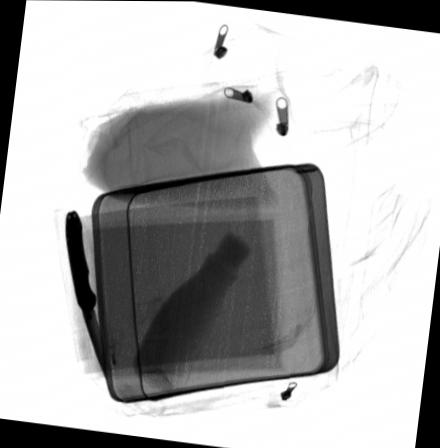Knife: (65, 208, 108, 382)
